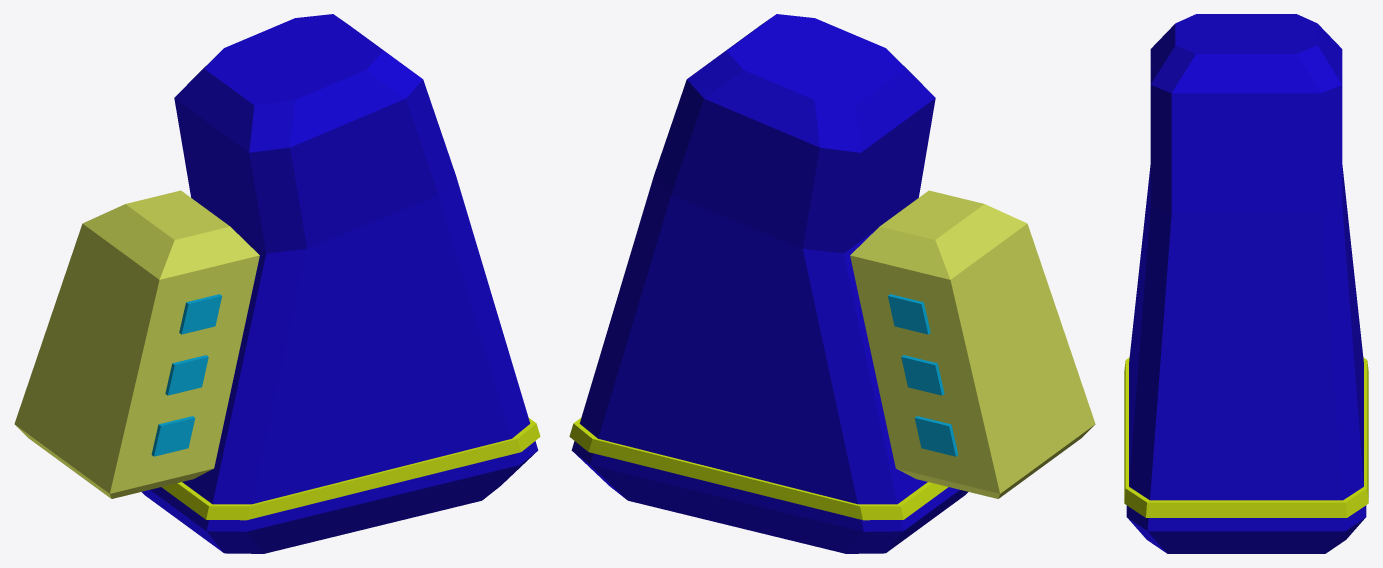
File: PlayerPrototype.fbx
3 renders of one model, left to right at view 1: azimuth 30°, elevation 25°; view 2: azimuth 150°, elevation 25°; view 3: azimuth 270°, elevation 25°, orthographic.
Parts seen in each view (by area): view 1: Cube, Cube.001, Cube.006, Cube.007, Cube.003; view 2: Cube, Cube.001, Cube.006, Cube.007, Cube.003; view 3: Cube.
Boxes of the visible parts, <box> form: Cube: <box>142,14,540,553</box>; Cube.001: <box>14,190,259,498</box>; Cube.006: <box>151,416,195,456</box>; Cube.007: <box>165,355,208,395</box>; Cube.003: <box>179,294,221,334</box>; Cube: <box>569,14,967,553</box>; Cube.001: <box>850,190,1095,498</box>; Cube.006: <box>914,416,958,456</box>; Cube.007: <box>901,355,944,395</box>; Cube.003: <box>888,294,930,334</box>; Cube: <box>1124,14,1368,553</box>.
Bounding box in the file's own units: 496 × 498 × 245.
